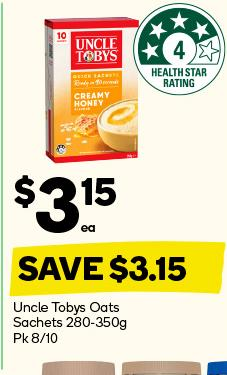description_block: (6, 300, 136, 352)
price_main: (7, 168, 132, 240)
product_image_block: (35, 10, 151, 168)
promo_text_block: (5, 242, 225, 297)
